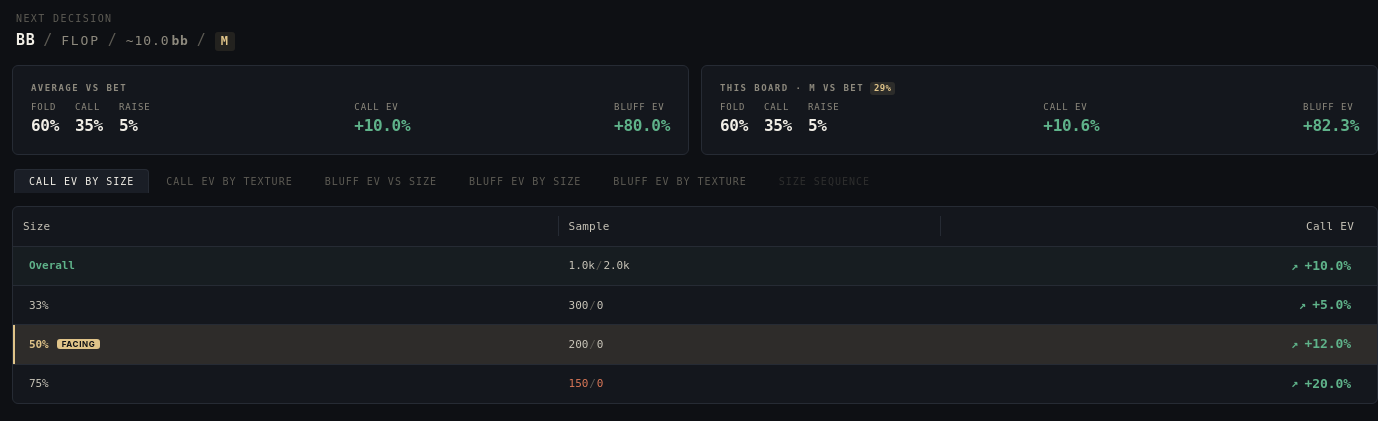
Test: ResultsPane — faced-size highlight on by-size tables › highlights the faced size on the Bluff EV vs size table
This screenshot has width=1378, height=421.
Click the button "Bluff EV vs size": (381, 181) x1=310 y1=169 x2=452 y2=193
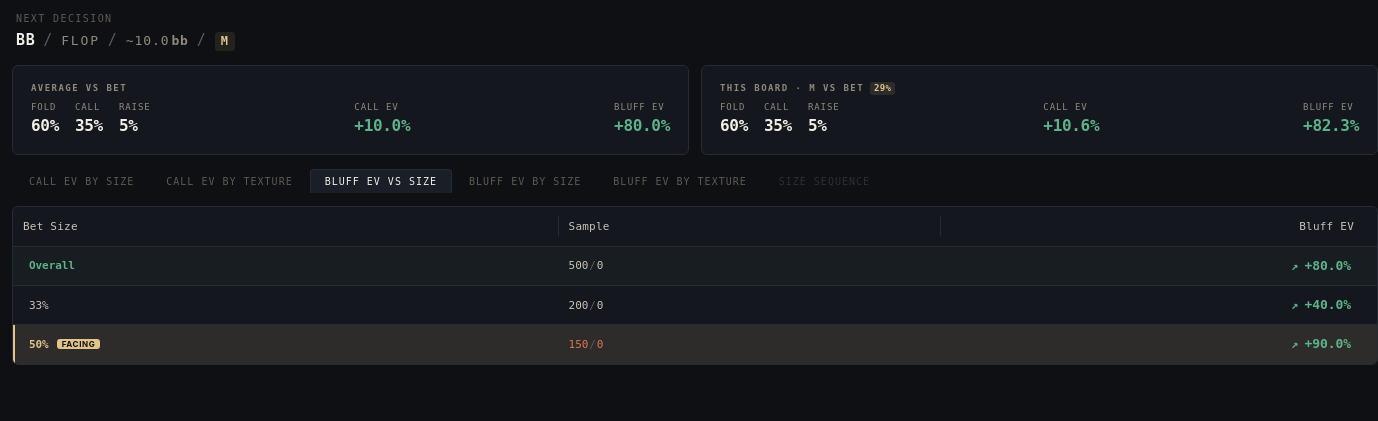
Check: the text "50%" is shown, box x1=29 y1=338 x2=49 y2=351
Check: the number of rows with class "row-hl" is 1, box x1=13 y1=325 x2=1377 y2=364
